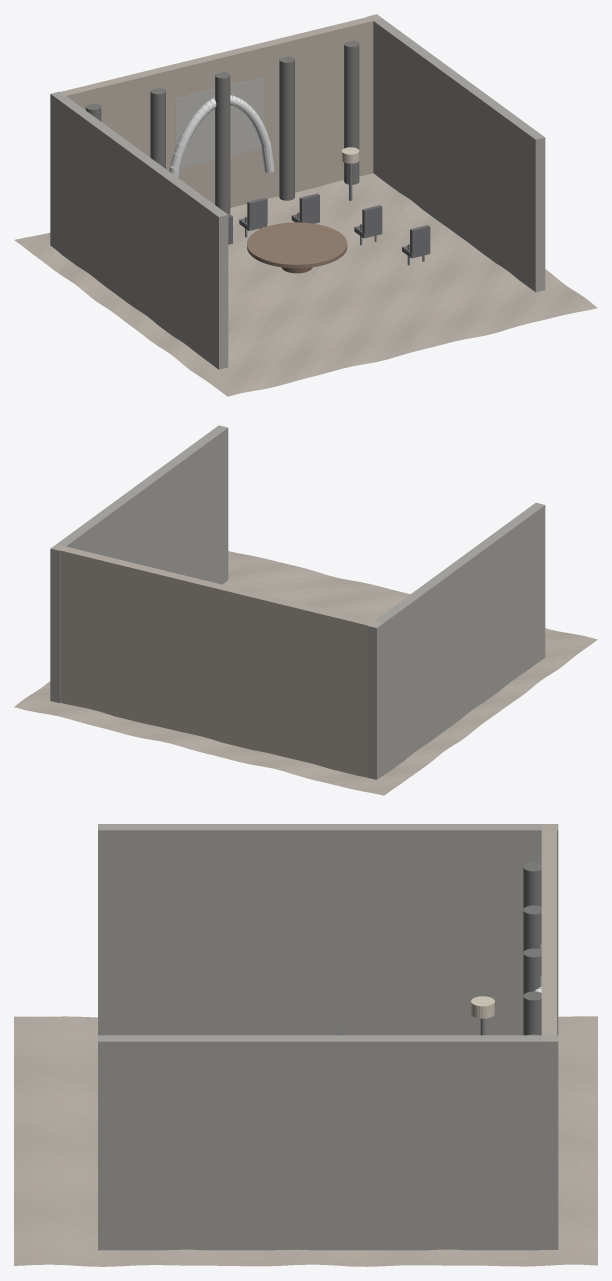
The model's file is council-chamber-real-v1.glb.
3 views of the same model, one above another, from view 1: azimuth 30°, elevation 25°; view 2: azimuth 150°, elevation 25°; view 3: azimuth 270°, elevation 25° (orthographic). The views are drawn at different scales.
Visible parts, largest first — view 1: council-weathered-floor, council-left-wall, council-right-wall, council-back-wall, council-window-glass, council-table-top, council-column-3, council-column-2, council-column-4, council-window-arch, council-column-1, council-chair-back-2 (+3 smaller); view 2: council-back-wall, council-left-wall, council-weathered-floor, council-right-wall; view 3: council-right-wall, council-left-wall, council-weathered-floor, council-back-wall, council-column-1, council-column-0, council-column-3, council-column-2.
Part boxes in pixels (x1=…): council-weathered-floor: x1=14, y1=173, x2=597, y2=396; council-left-wall: x1=50, y1=91, x2=228, y2=369; council-right-wall: x1=367, y1=14, x2=545, y2=292; council-back-wall: x1=61, y1=14, x2=381, y2=207; council-window-glass: x1=176, y1=77, x2=263, y2=167; council-table-top: x1=247, y1=222, x2=347, y2=268; council-column-3: x1=279, y1=56, x2=294, y2=200; council-column-2: x1=215, y1=72, x2=230, y2=214; council-column-4: x1=344, y1=40, x2=359, y2=184; council-window-arch: x1=169, y1=95, x2=274, y2=177; council-column-1: x1=150, y1=87, x2=165, y2=168; council-chair-back-2: x1=247, y1=197, x2=267, y2=227; council-back-wall: x1=52, y1=544, x2=381, y2=777; council-left-wall: x1=367, y1=502, x2=545, y2=779; council-weathered-floor: x1=14, y1=551, x2=597, y2=795; council-right-wall: x1=50, y1=425, x2=228, y2=702; council-right-wall: x1=98, y1=1035, x2=558, y2=1250; council-left-wall: x1=98, y1=824, x2=558, y2=1035; council-weathered-floor: x1=14, y1=1016, x2=597, y2=1266; council-back-wall: x1=541, y1=824, x2=556, y2=1041; council-column-1: x1=523, y1=905, x2=541, y2=951; council-column-0: x1=523, y1=862, x2=541, y2=908; council-column-3: x1=523, y1=991, x2=541, y2=1035; council-column-2: x1=523, y1=948, x2=541, y2=994.
Size of the model in its own units: 13.2 by 5.25 by 13.2.
